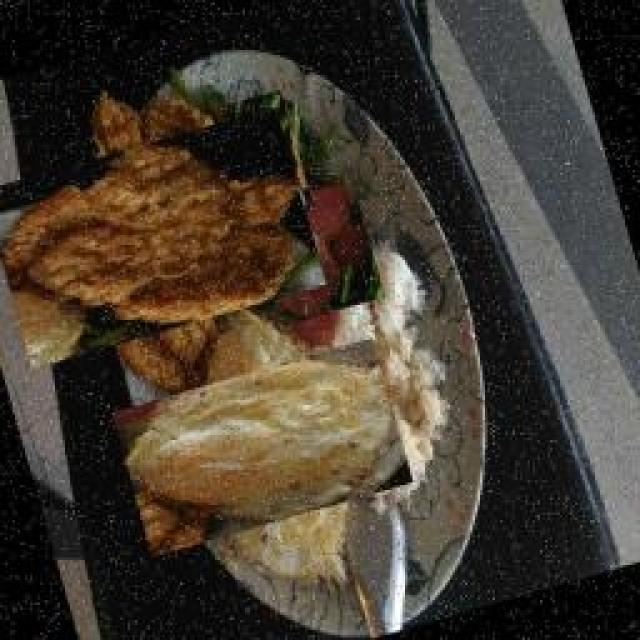Wet Waste: (2, 85, 308, 390), (132, 318, 392, 578), (290, 233, 462, 495), (250, 180, 388, 328), (213, 90, 315, 230)
